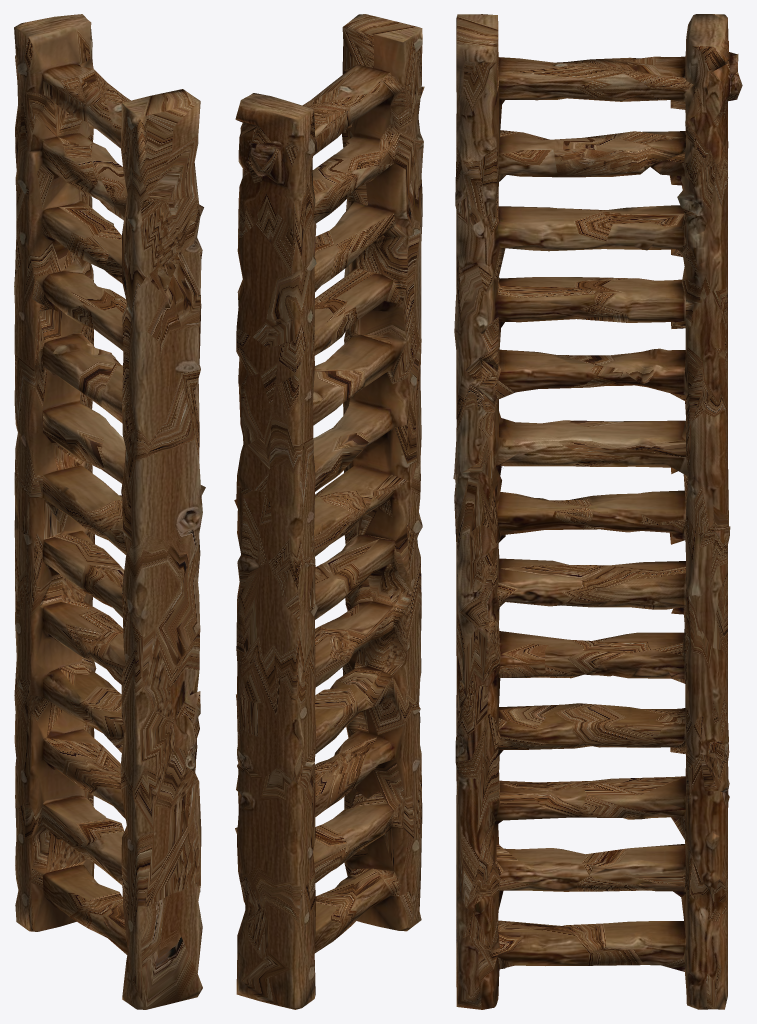
The model's file is wooden_ladder_01.glb.
3 views of the same model, side by side, from view 1: azimuth 30°, elevation 25°; view 2: azimuth 150°, elevation 25°; view 3: azimuth 270°, elevation 25° (orthographic). The views are drawn at different scales.
Parts seen in each view (by area): view 1: tripo_node_7966efcf-b575-449b-a6d7-2f8f47e45058; view 2: tripo_node_7966efcf-b575-449b-a6d7-2f8f47e45058; view 3: tripo_node_7966efcf-b575-449b-a6d7-2f8f47e45058.
Boxes of the visible parts, box(x1,y1,x2,y2) form: tripo_node_7966efcf-b575-449b-a6d7-2f8f47e45058: box(14, 14, 205, 1009); tripo_node_7966efcf-b575-449b-a6d7-2f8f47e45058: box(234, 14, 424, 1009); tripo_node_7966efcf-b575-449b-a6d7-2f8f47e45058: box(453, 14, 742, 1009).
Size of the model in its own units: 0.0893 by 0.9779 by 0.2663.
1 material, 1 textured.
